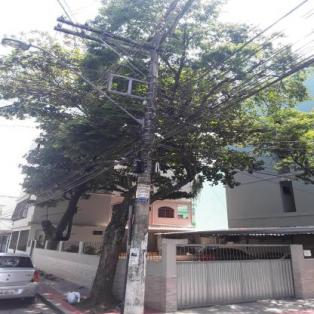Poste: (120, 35, 166, 314)
